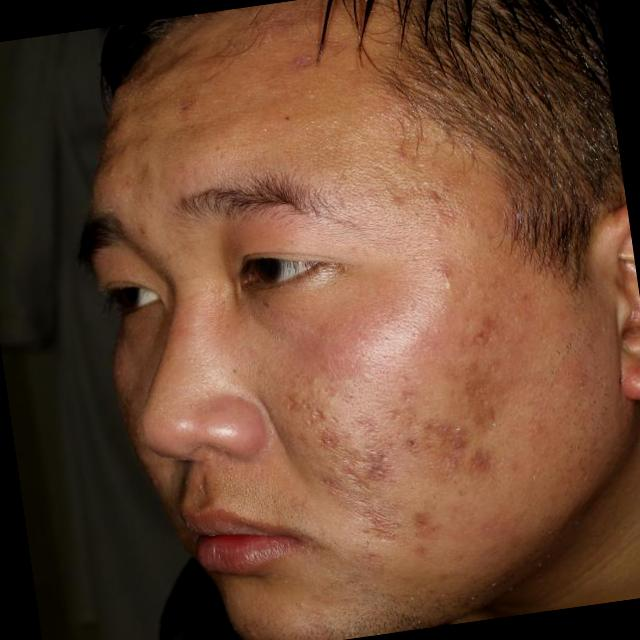acne: (464, 439, 511, 492), (350, 444, 400, 491), (465, 370, 512, 412), (466, 308, 508, 352), (308, 414, 352, 450), (399, 508, 438, 542), (460, 401, 500, 431), (419, 416, 456, 446)
